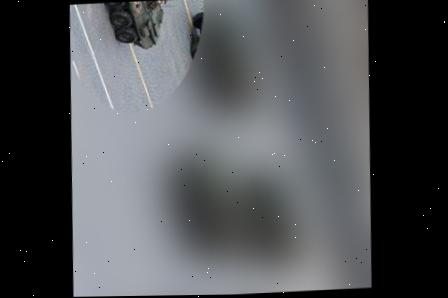armored_car: (95, 0, 176, 52)
